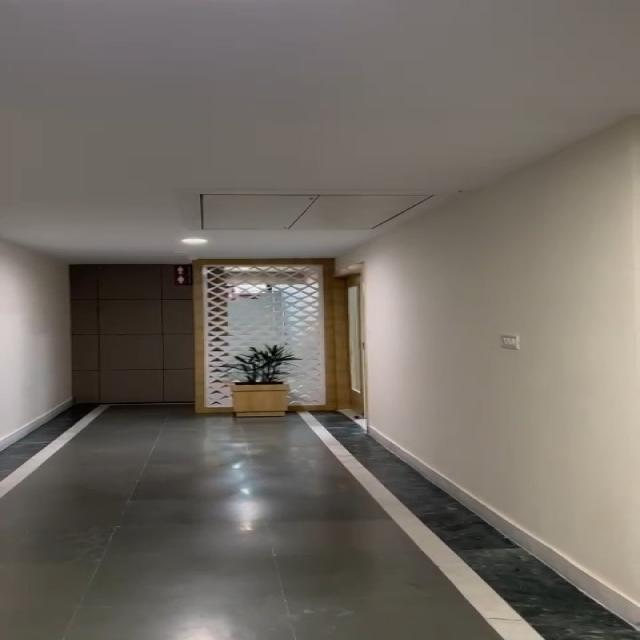floor: (89, 408, 351, 640)
furniture: (219, 351, 296, 426)
wall: (379, 231, 640, 425), (0, 240, 70, 425)
